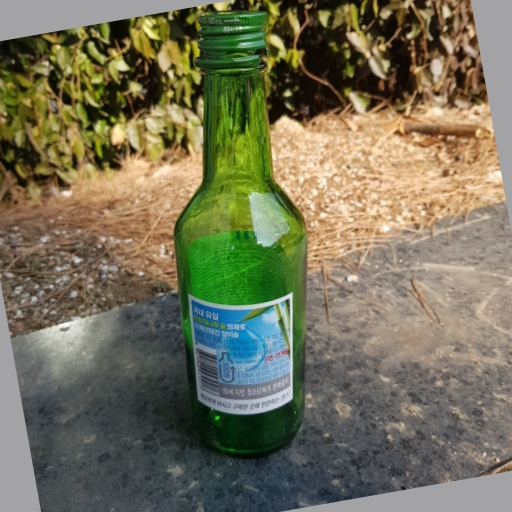Glass_0: (171, 10, 306, 455)
